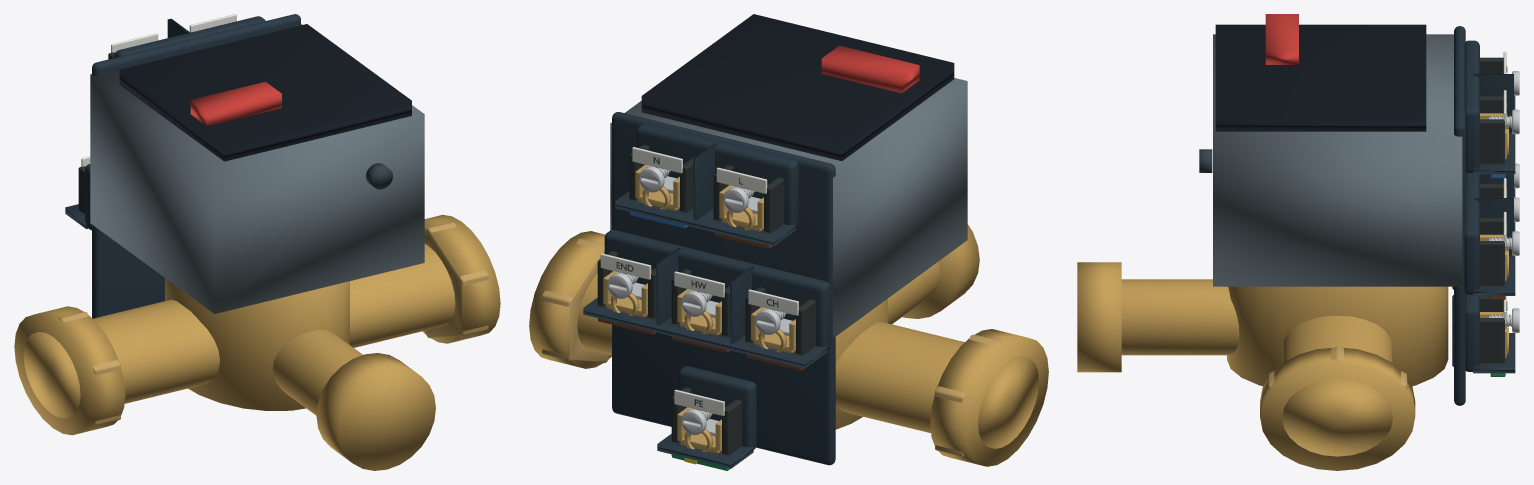
Rendered from valve3_three-port.glb.
3 views of the same model, side by side, from view 1: azimuth 30°, elevation 25°; view 2: azimuth 150°, elevation 25°; view 3: azimuth 270°, elevation 25° (orthographic). The views are drawn at different scales.
Visible parts, largest first — view 1: part:actuator, part:body · Original df732090, part:terminals · Original a463fd81, motion:valve-pointer, detail:valve-end-switch · Detail machined brass, part:body.001; view 2: part:terminals · Original a463fd81, part:actuator, part:body · Original df732090, motion:valve-pointer, detail:valve-end-switch · Detail machined brass, detail:terminal-clamp:L · Detail moulded engineering polymer, detail:terminal-clamp:PE · Detail moulded engineering polyme, detail:terminal-clamp:CH · Detail moulded engineering polyme, detail:terminal-clamp:N · Detail moulded engineering polymer, detail:terminal-clamp:N · Detail machined brass, detail:terminal-clamp:PE · Detail machined brass, detail:terminal-clamp:HW · Detail machined brass (+17 smaller); view 3: part:actuator, part:body · Original df732090, part:terminals · Original a463fd81, motion:valve-pointer, detail:terminal-clamp:PE · Detail moulded engineering polyme, detail:terminal-clamp:N · Detail moulded engineering polymer, detail:terminal-clamp:END · Detail moulded engineering polym.
Part boxes in pixels (x1,y1,x2,y2): part:actuator: [90, 24, 424, 313]; part:body · Original df732090: [14, 214, 500, 470]; part:terminals · Original a463fd81: [65, 14, 300, 318]; motion:valve-pointer: [190, 81, 281, 126]; detail:valve-end-switch · Detail machined brass: [58, 222, 488, 425]; part:body.001: [365, 163, 392, 189]; part:terminals · Original a463fd81: [583, 112, 835, 468]; part:actuator: [610, 14, 967, 337]; part:body · Original df732090: [529, 224, 1048, 466]; motion:valve-pointer: [821, 45, 919, 93]; detail:valve-end-switch · Detail machined brass: [541, 239, 1001, 456]; detail:terminal-clamp:L · Detail moulded engineering polymer: [713, 165, 784, 233]; detail:terminal-clamp:PE · Detail moulded engineering polyme: [671, 387, 741, 455]; detail:terminal-clamp:CH · Detail moulded engineering polyme: [745, 287, 815, 355]; detail:terminal-clamp:N · Detail moulded engineering polymer: [629, 144, 694, 213]; detail:terminal-clamp:N · Detail machined brass: [635, 164, 679, 210]; detail:terminal-clamp:PE · Detail machined brass: [677, 407, 721, 453]; detail:terminal-clamp:HW · Detail machined brass: [677, 289, 721, 335]; part:actuator: [1213, 24, 1462, 286]; part:body · Original df732090: [1077, 262, 1448, 470]; part:terminals · Original a463fd81: [1454, 26, 1515, 405]; motion:valve-pointer: [1265, 14, 1298, 64]; detail:terminal-clamp:PE · Detail moulded engineering polyme: [1452, 295, 1506, 366]; detail:terminal-clamp:N · Detail moulded engineering polymer: [1480, 96, 1506, 164]; detail:terminal-clamp:END · Detail moulded engineering polym: [1452, 217, 1506, 289].
Size of the model in its own units: 1.02 by 0.741 by 0.9396.
